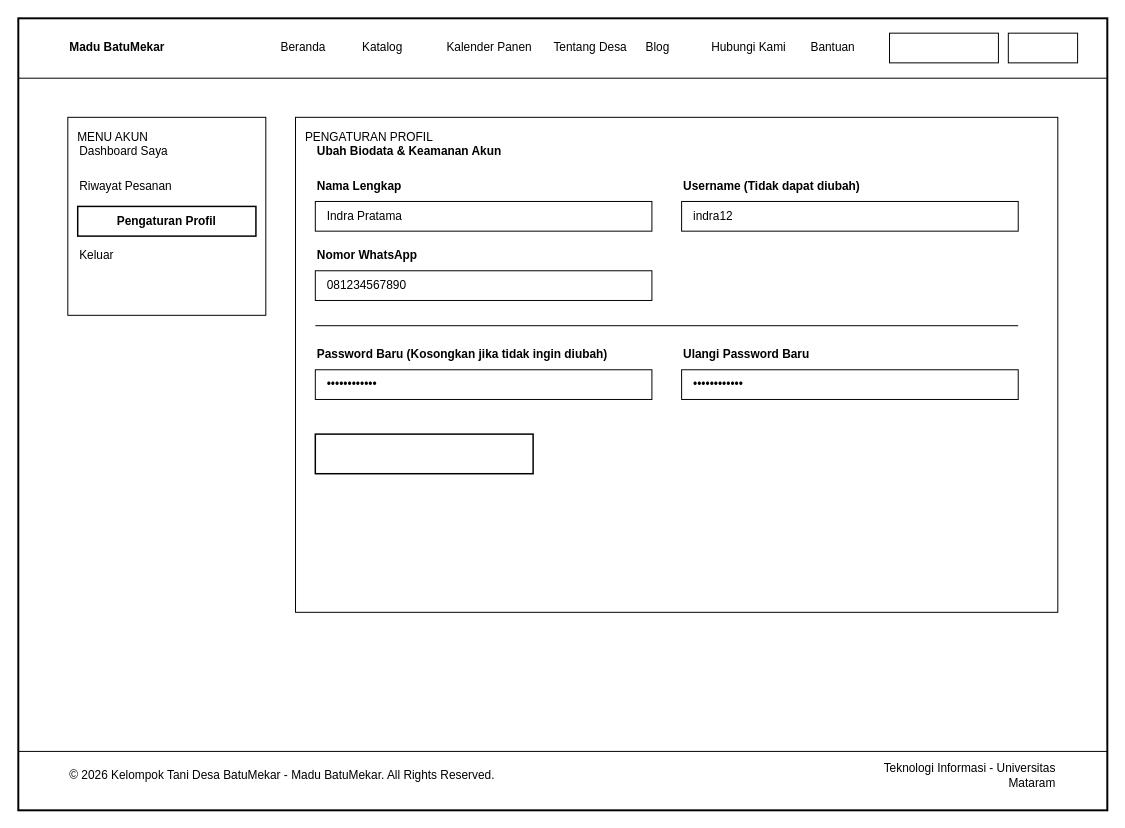
This 1125x828 diagram has some shape labels left out. Each missing label, with the centre of its shape:
"[Icon] Akun" belongs at (x=1042, y=47).
"[Icon] Keranjang (2)" belongs at (x=943, y=47).
"Simpan Perubahan Data" belongs at (x=423, y=453).
